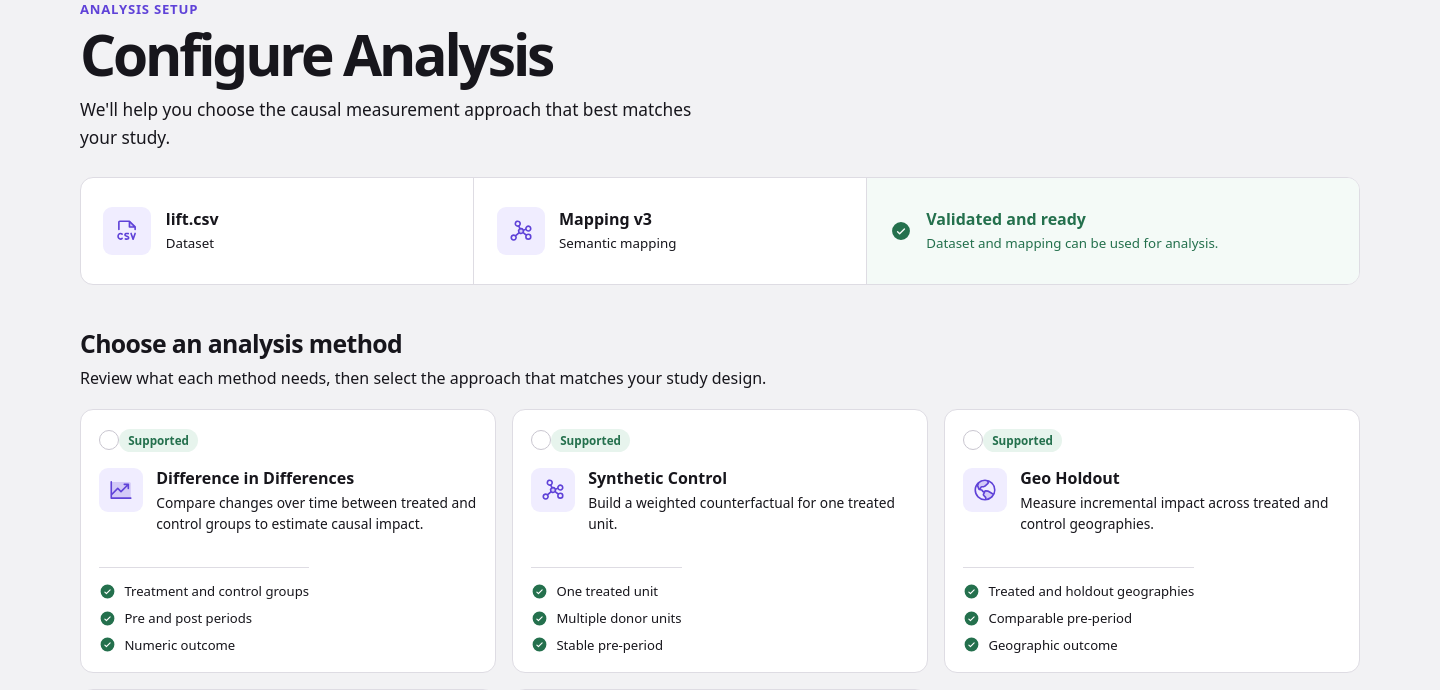
Analysis Configuration treatment and control › shows the mapped DiD treatment definition as read-only
Click the button "Difference in Differences" at (159, 440), box [80,409,496,673]
(page scrolled)
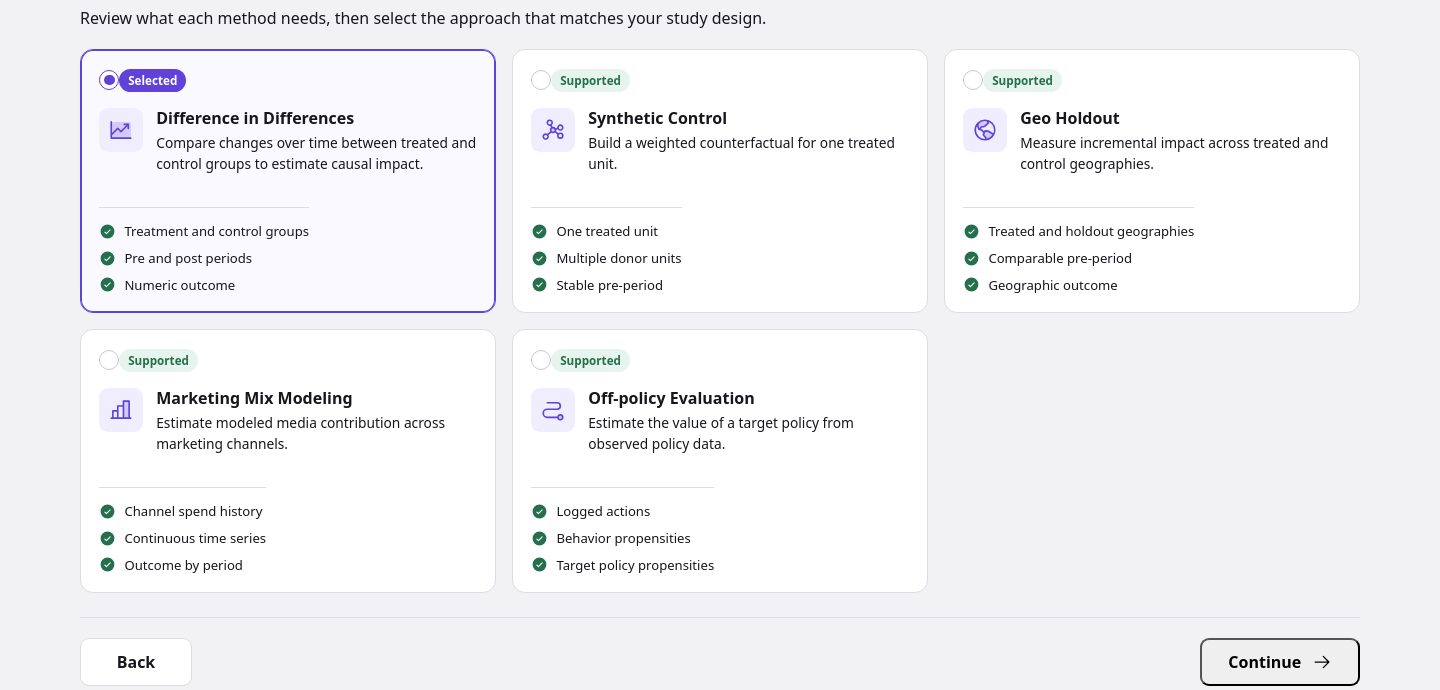
Click the button "Continue" at (1280, 662), box [1200,638,1360,686]
(page scrolled)
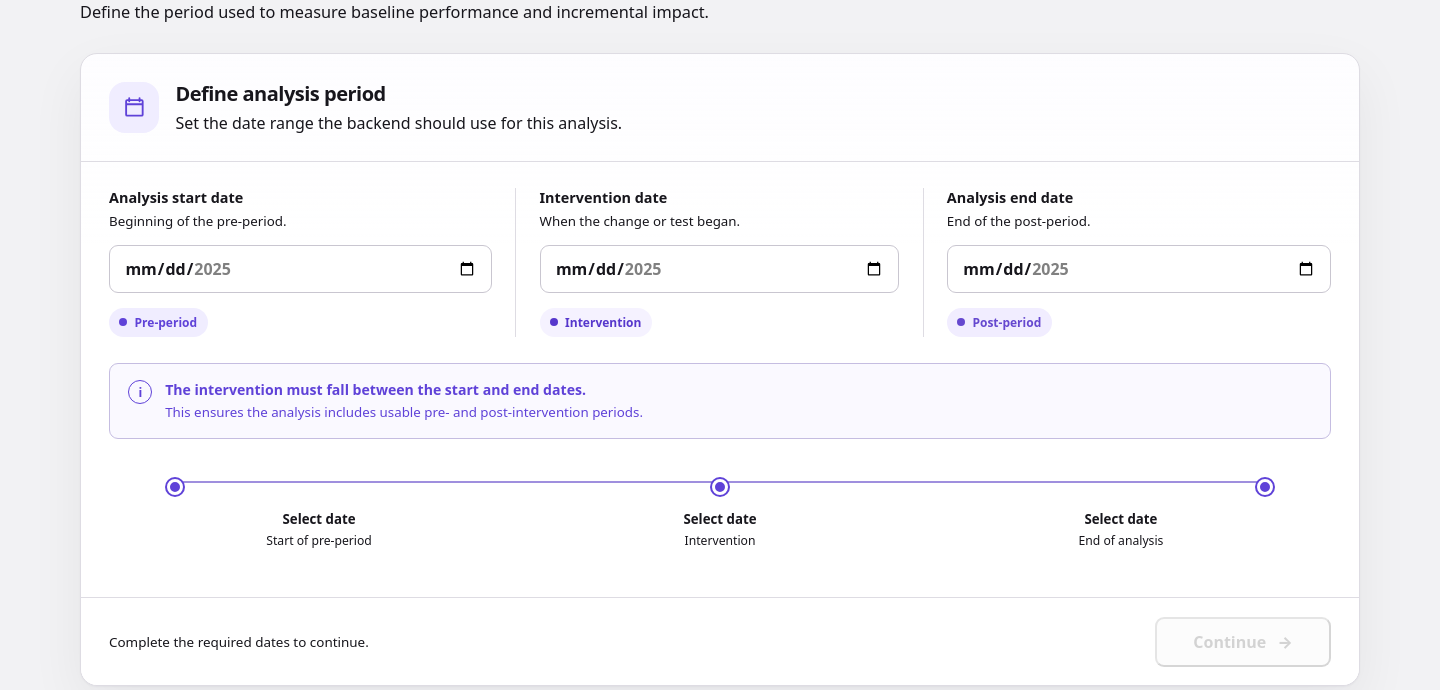
Type "2025-01-01" into the date field labelled "Analysis start date" at (301, 269), box [109,245,492,293]
Type "2025-02-01" into the date field labelled "Intervention date" at (720, 269), box [540,245,900,293]
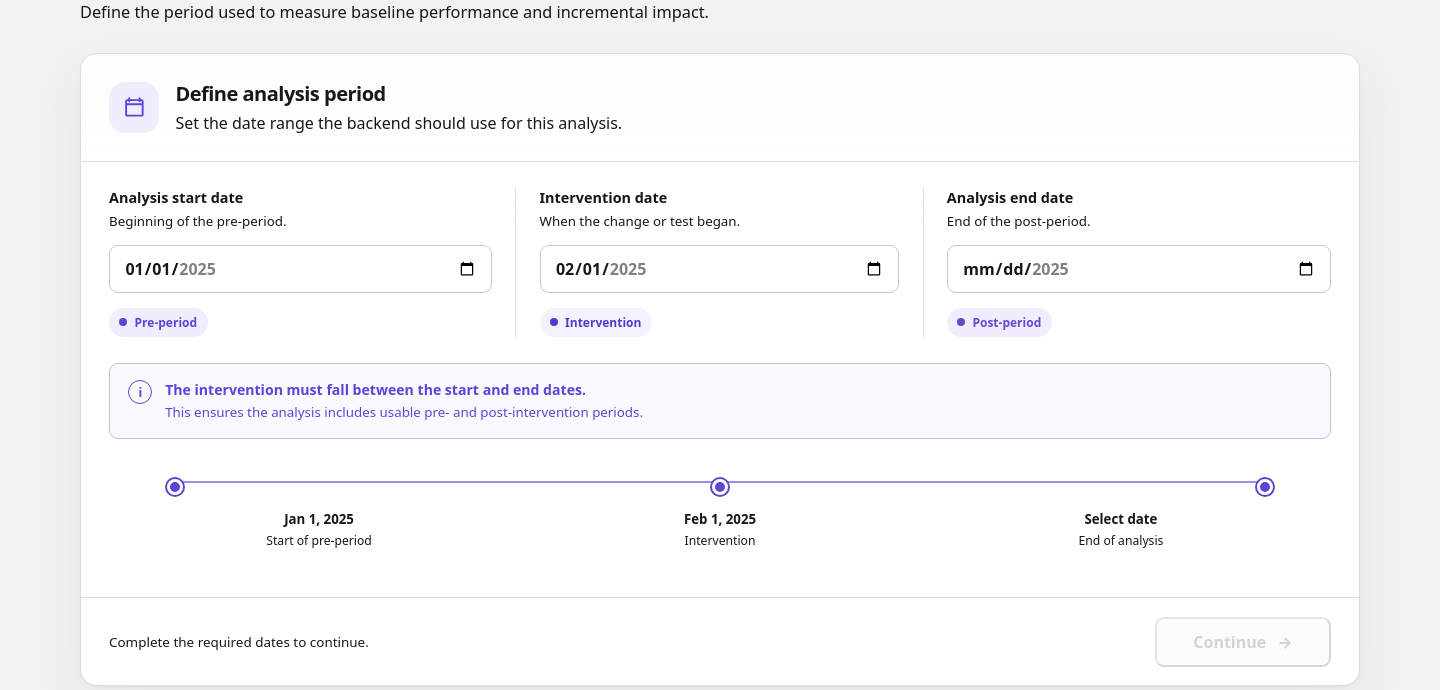
Type "2025-03-31" into the date field labelled "Analysis end date" at (1139, 269), box [947,245,1331,293]
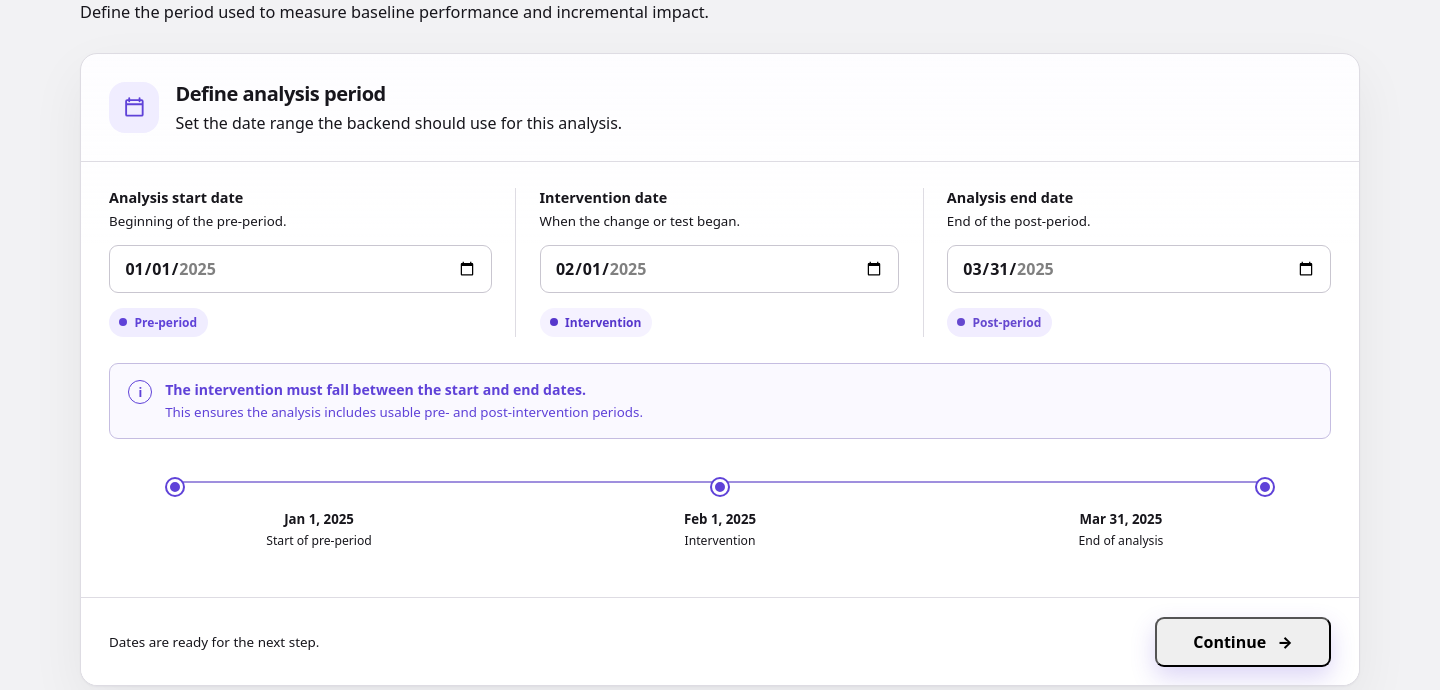
Click the button "Continue →" at (1243, 642), box [1155,617,1331,667]
(page scrolled)
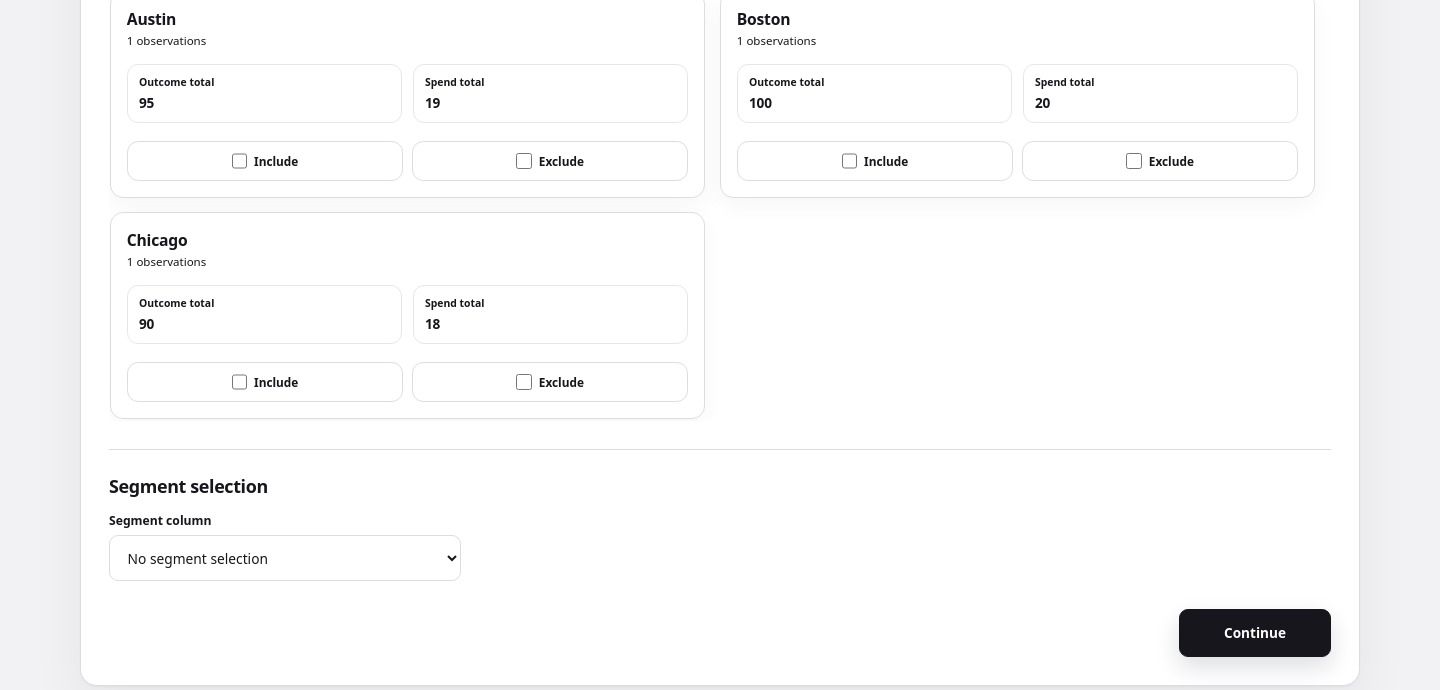
Click the button "Continue" at (1255, 633), box [1179,609,1331,657]
(page scrolled)
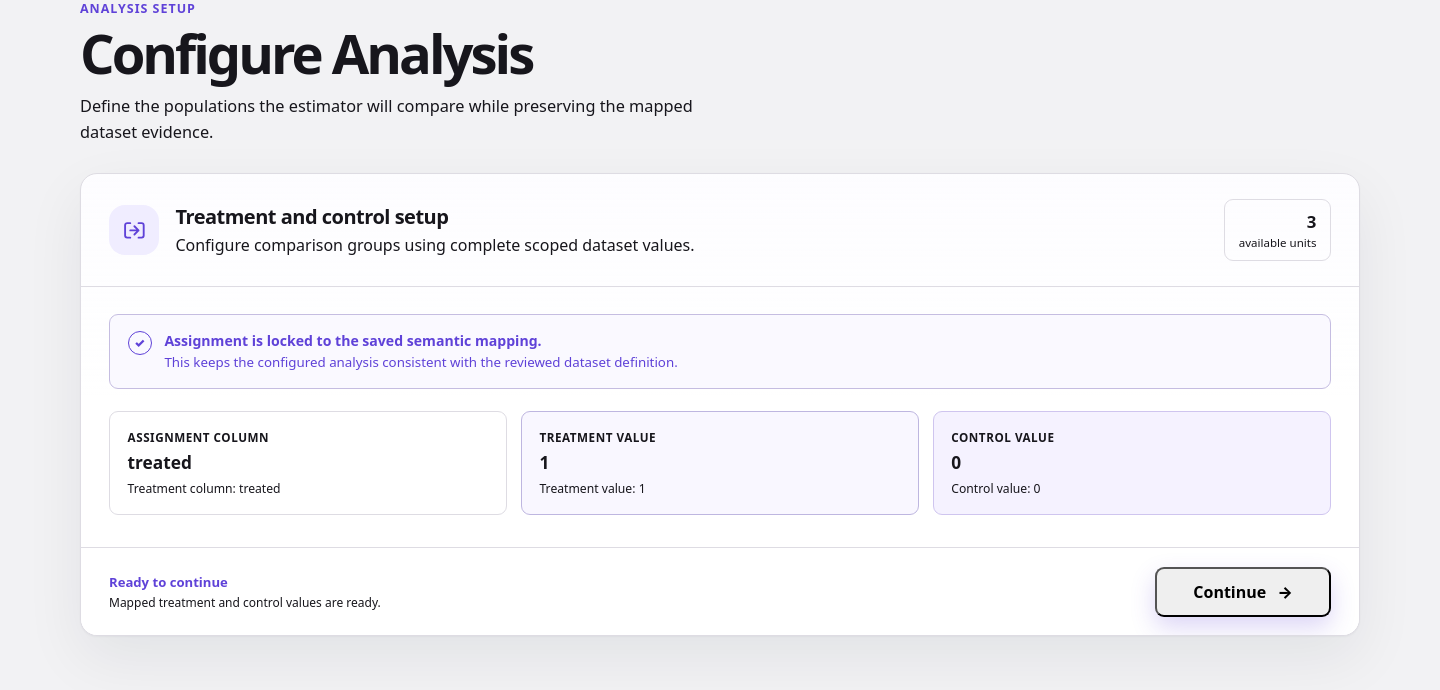
Expected: the heading "Treatment and control setup" is shown, [175,203,448,230]
Expected: the text "Treatment column: treated" is shown, [128,480,281,497]
Expected: the text "Treatment value: 1" is shown, [540,480,646,497]
